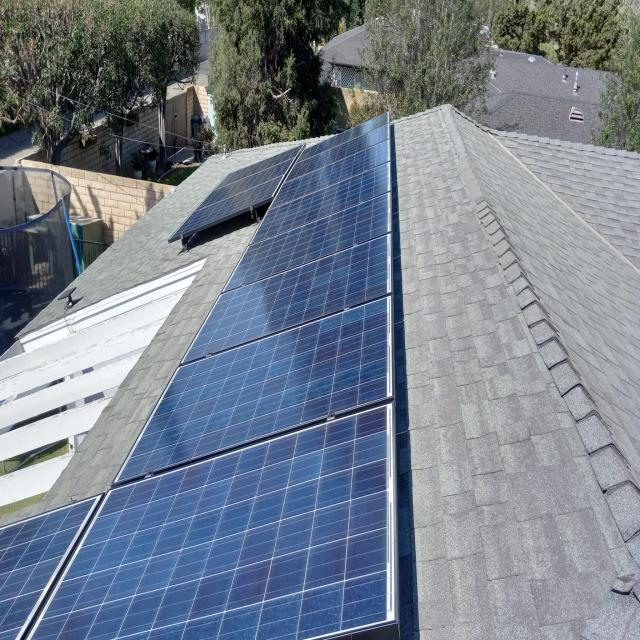clean-solar-panel: (0, 116, 398, 640)
